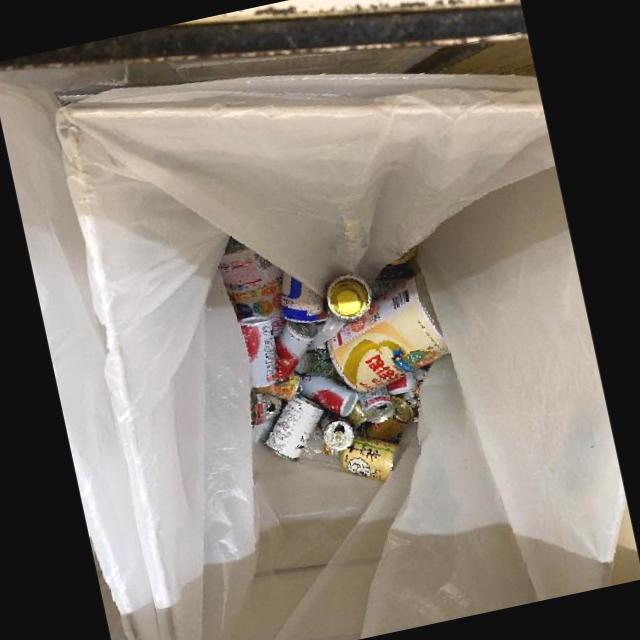nhom: (326, 270, 448, 392), (218, 247, 286, 335), (265, 393, 325, 461), (323, 434, 403, 480), (275, 319, 318, 386), (239, 315, 277, 388), (297, 374, 358, 416), (363, 396, 414, 442), (280, 270, 323, 322), (325, 274, 371, 322), (400, 362, 431, 423), (293, 340, 339, 376), (318, 409, 354, 450), (253, 372, 303, 400), (358, 385, 394, 422), (385, 371, 417, 394), (250, 387, 267, 429), (346, 397, 366, 430), (264, 395, 281, 419)
